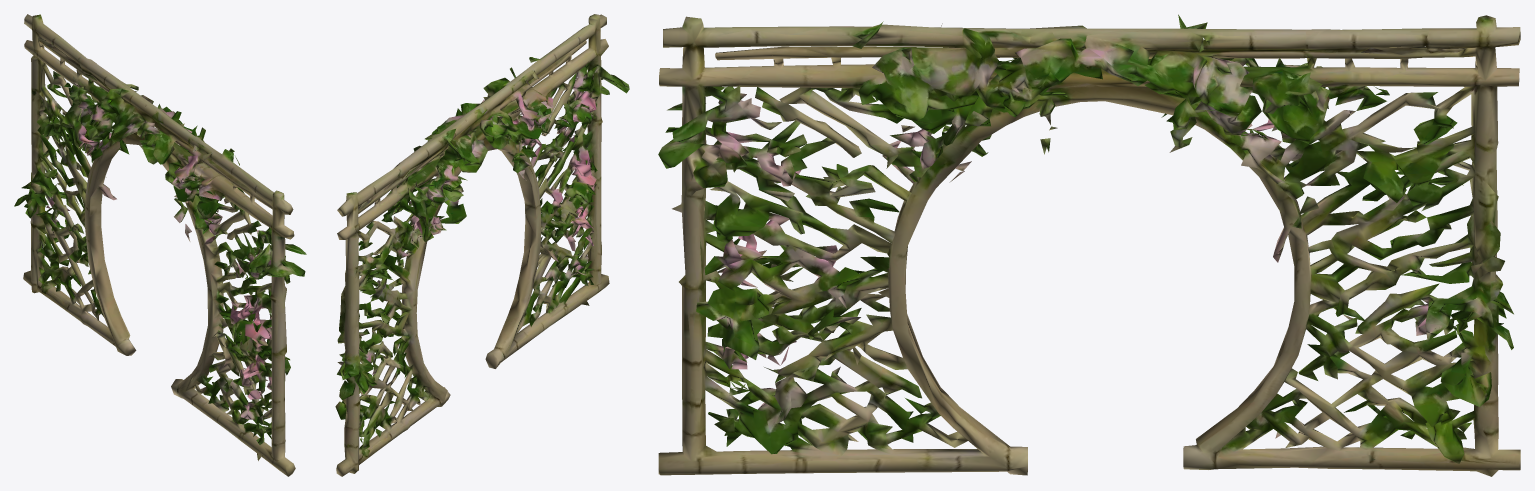
File: yuedongmen.glb
3 renders of one model, left to right at view 1: azimuth 30°, elevation 25°; view 2: azimuth 150°, elevation 25°; view 3: azimuth 270°, elevation 25°, orthographic. The views are drawn at different scales.
Parts seen in each view (by area): view 1: tripo_node_36bc0c72-0462-4d33-84a5-8f07ccadad91; view 2: tripo_node_36bc0c72-0462-4d33-84a5-8f07ccadad91; view 3: tripo_node_36bc0c72-0462-4d33-84a5-8f07ccadad91.
Part boxes in pixels (<box>): tripo_node_36bc0c72-0462-4d33-84a5-8f07ccadad91: <box>14,14,306,476</box>; tripo_node_36bc0c72-0462-4d33-84a5-8f07ccadad91: <box>335,14,629,476</box>; tripo_node_36bc0c72-0462-4d33-84a5-8f07ccadad91: <box>658,14,1520,476</box>.
Bounding box in the file's own units: 0.227 × 1 × 1.71.
1 material, 1 textured.
